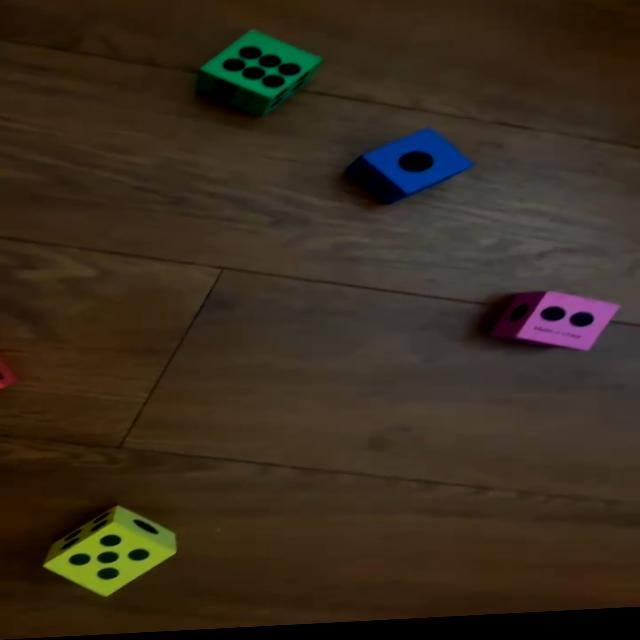blue_block: (348, 130, 479, 209)
red_block: (0, 360, 19, 388)
